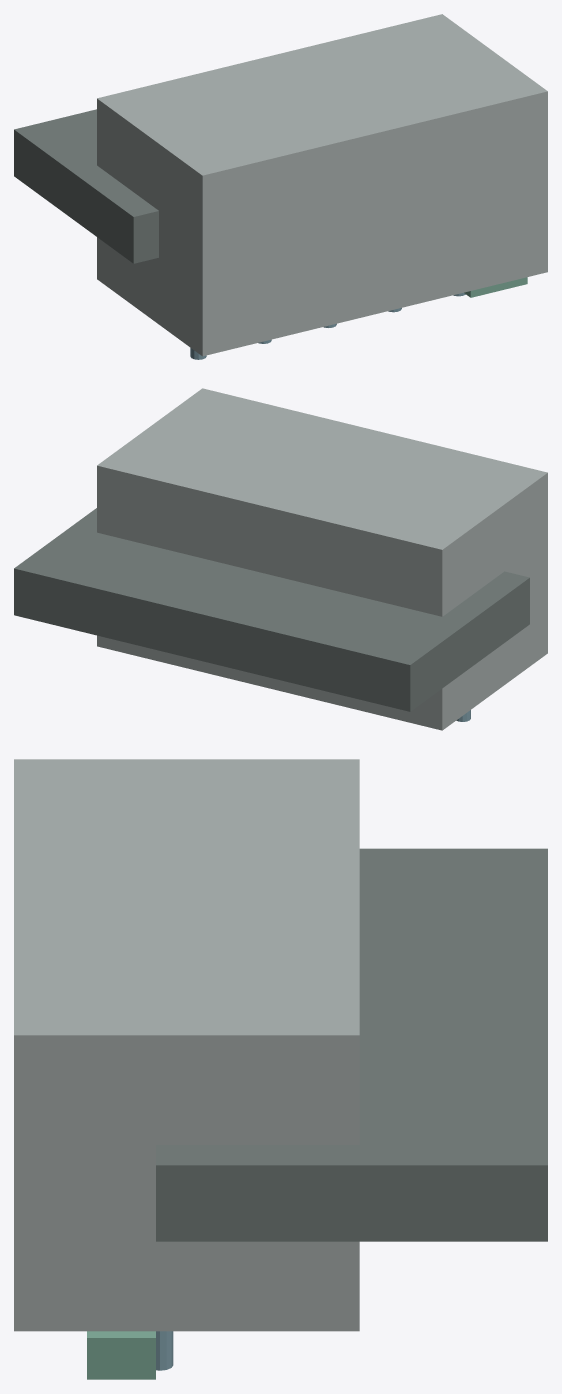
File: wash-tunnel-high.glb
3 renders of one model, top to bottom at view 1: azimuth 30°, elevation 25°; view 2: azimuth 150°, elevation 25°; view 3: azimuth 270°, elevation 25°, orthographic. The views are drawn at different scales.
Visible parts, largest first — view 1: tunnel, base, control; view 2: tunnel, base; view 3: tunnel, base, control.
Boxes of the visible parts, x1,y1,x2,y2 form: tunnel: (97, 14, 547, 356); base: (14, 109, 158, 263); control: (464, 277, 527, 297); tunnel: (97, 388, 547, 730); base: (14, 508, 529, 711); tunnel: (14, 759, 359, 1331); base: (156, 848, 547, 1241); control: (87, 1331, 155, 1379).
Bounding box in the file's own units: 1.95 × 1.05 × 1.39.
